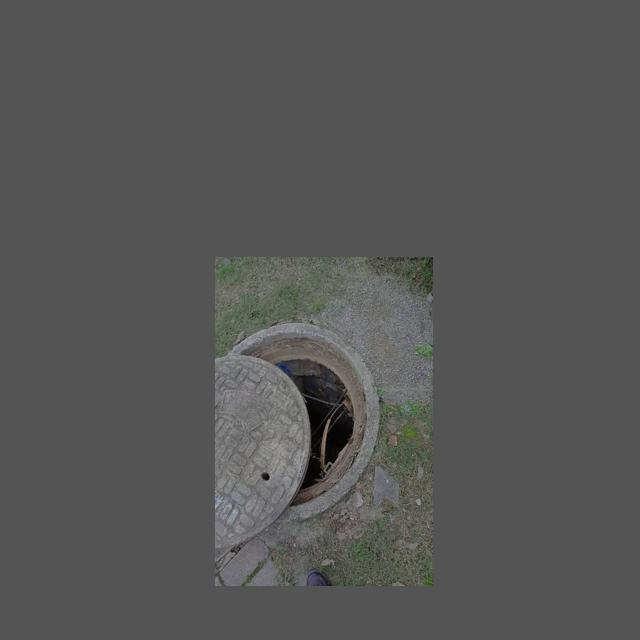uncovered: (215, 321, 382, 548)
